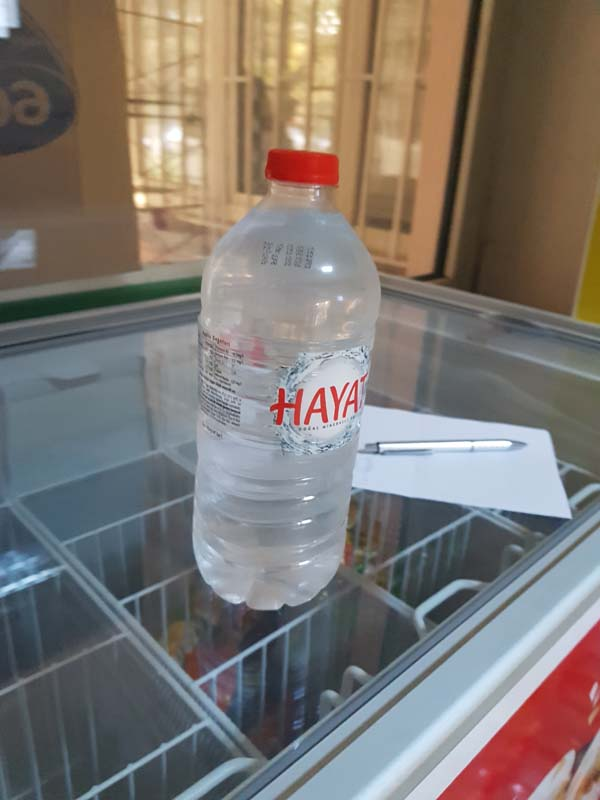hayat1000mlsu: (195, 137, 386, 610)
